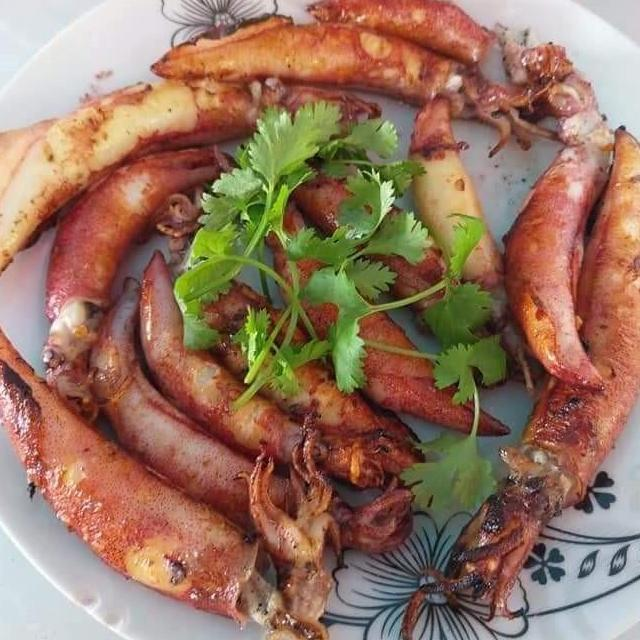muc: (394, 121, 640, 640), (82, 271, 424, 568), (0, 312, 292, 633), (0, 67, 391, 299), (252, 190, 518, 444), (158, 246, 438, 486), (144, 10, 576, 162), (256, 136, 510, 388), (36, 141, 252, 434), (488, 37, 620, 398), (134, 244, 338, 475), (223, 393, 347, 640), (304, 0, 500, 75)
